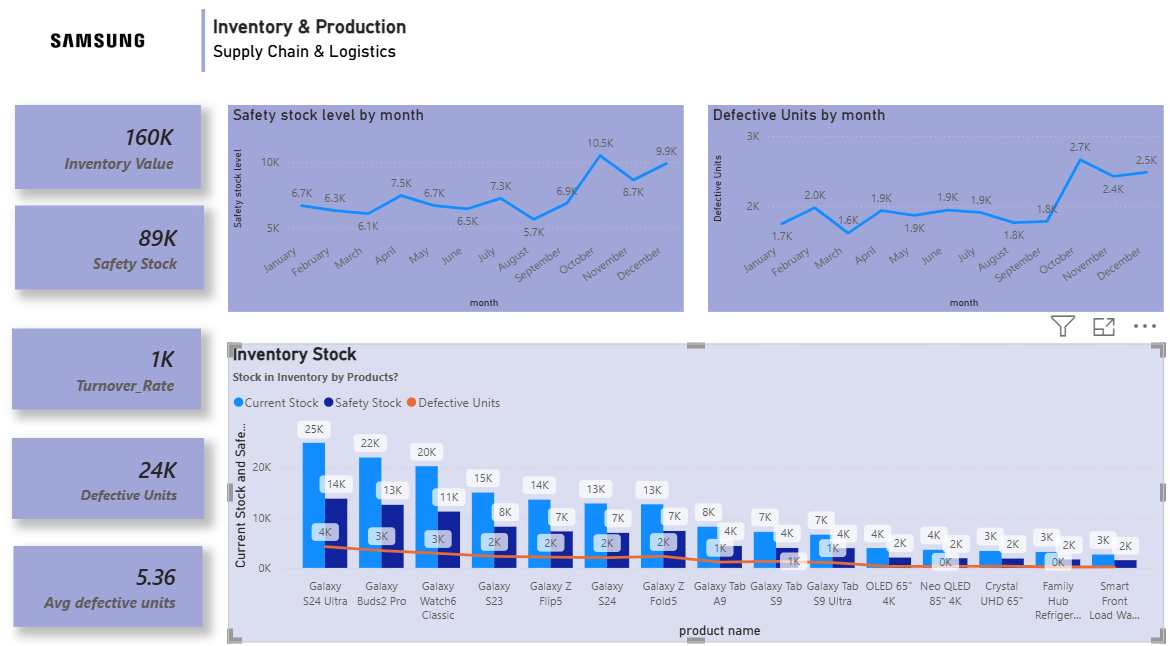

What the dashboard file says about the page in this screenshot:
{"tool":"powerbi","page":{"name":"Inventory","canvas":[1280,720],"ordinal":3},"visuals":[{"type":"shape","title":"Inventory & Production","box":[233.2,22.7,208.9,61.5],"z":0},{"type":"shape","box":[212.1,16.2,21,68],"z":1000},{"type":"image","box":[16.2,0,184.6,100.4],"z":2000},{"type":"cardVisual","fields":{"Data":["New_Measures.Inventory_value"]},"box":[19.4,119.8,200.8,90.7],"z":3000},{"type":"cardVisual","fields":{"Data":["New_Measures.Safety_Stock"]},"box":[19.4,228.3,204,90.7],"z":4000},{"type":"cardVisual","fields":{"Data":["New_Measures.Turnover_Rate"]},"box":[16.2,361.1,204,87.4],"z":5000},{"type":"cardVisual","fields":{"Data":["New_Measures.Defective_Units"]},"box":[16.2,479.3,207.3,87.4],"z":6000},{"type":"cardVisual","fields":{"Data":["Avg(fact_production.defective_units)"]},"box":[17.8,595.9,204,87.4],"z":7000},{"type":"lineClusteredColumnComboChart","title":"Inventory Stock","fields":{"Category":["dim_product.product_name"],"Y":["Sum(fact_inventory.stock_level)","Sum(fact_inventory.safety_stock_level)"],"Y2":["New_Measures.Defective_Units"]},"box":[249.4,377.3,1010.4,322.2],"z":8000},{"type":"lineChart","fields":{"Category":["dim_date.month_name"],"Y":["Sum(fact_inventory.safety_stock_level)"]},"box":[249.4,119.8,492.2,223.5],"z":9000},{"type":"lineChart","fields":{"Category":["dim_date.month_name"],"Y":["Sum(fact_production.defective_units)"]},"box":[767.5,119.8,492.2,223.5],"z":10000}]}

Visuals, with their boxes in screenshot pixels (x1, y1, x2, y2), scaled from the page's 1280x720 canvas onto the 1170x646 screenshot:
"Inventory & Production" shape: rect(213, 20, 404, 76)
shape: rect(194, 15, 213, 76)
image: rect(15, 0, 184, 90)
cardVisual - New_Measures.Inventory_value: rect(18, 107, 201, 189)
cardVisual - New_Measures.Safety_Stock: rect(18, 205, 204, 286)
cardVisual - New_Measures.Turnover_Rate: rect(15, 324, 201, 402)
cardVisual - New_Measures.Defective_Units: rect(15, 430, 204, 508)
cardVisual - Avg(fact_production.defective_units): rect(16, 535, 203, 613)
"Inventory Stock" lineClusteredColumnComboChart: rect(228, 339, 1152, 628)
lineChart - dim_date.month_name x Sum(fact_inventory.safety_stock_level): rect(228, 107, 678, 308)
lineChart - dim_date.month_name x Sum(fact_production.defective_units): rect(702, 107, 1151, 308)
